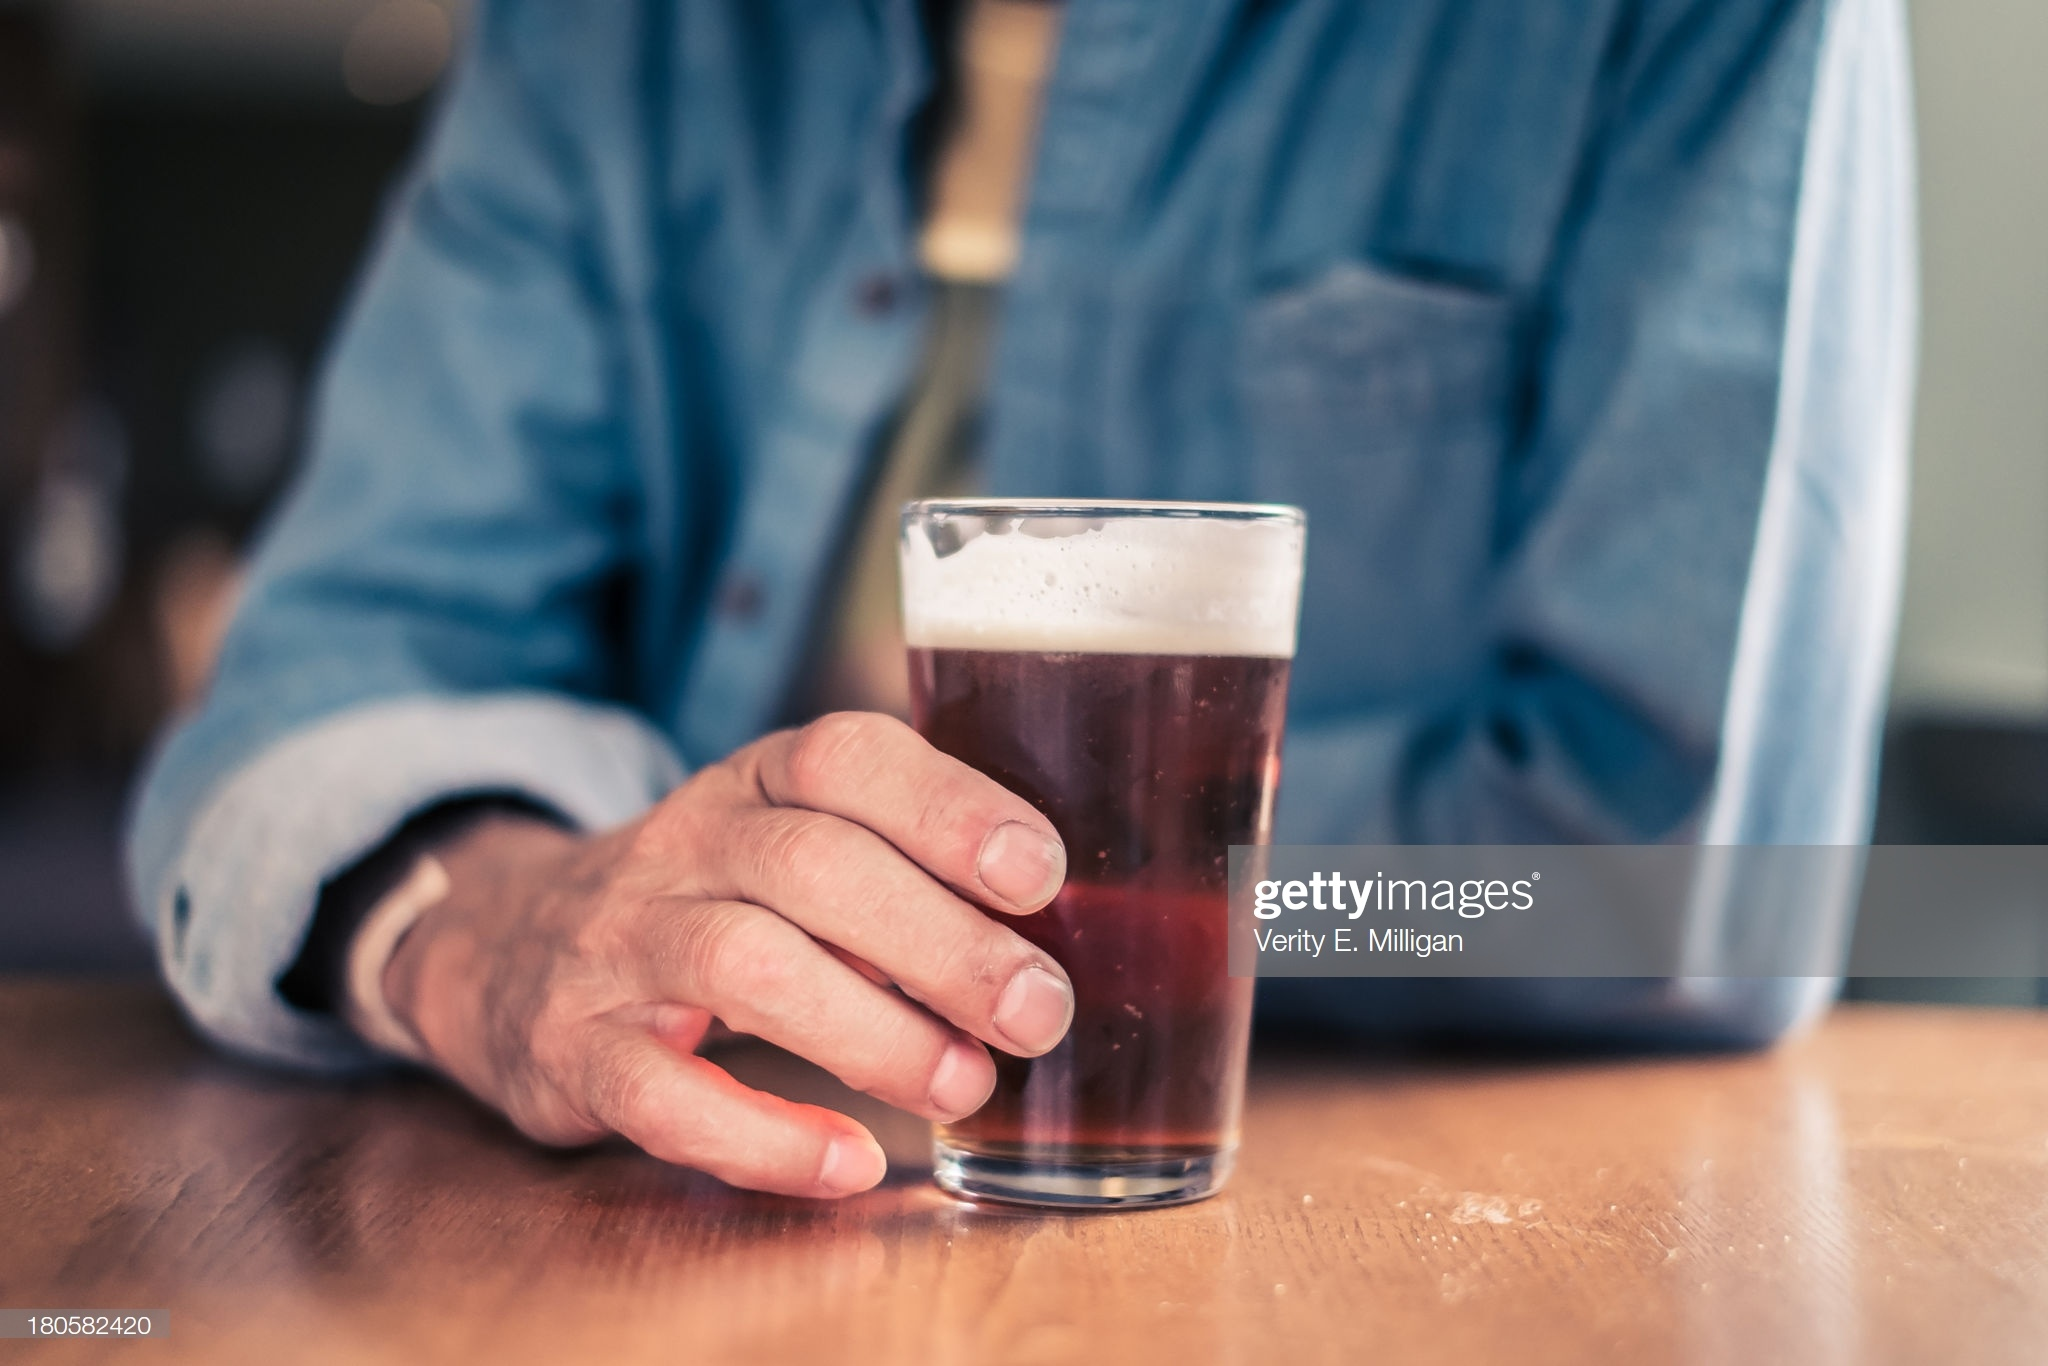glassBeer: (930, 500, 1307, 1188)
